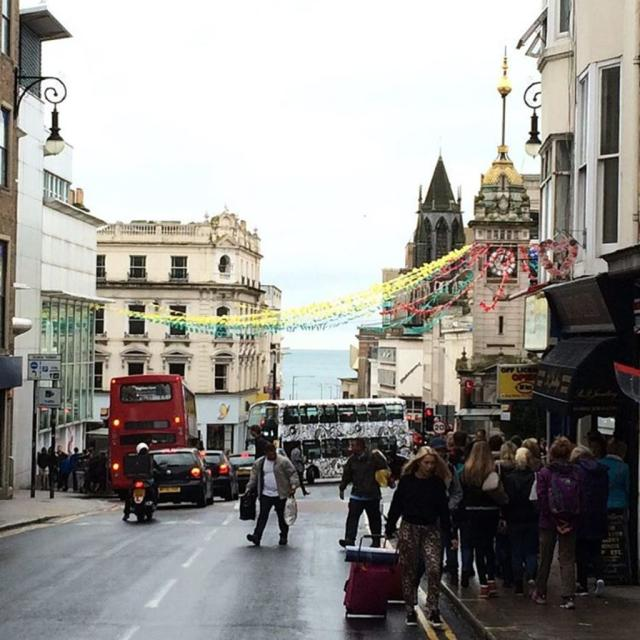car: (147, 444, 211, 507)
